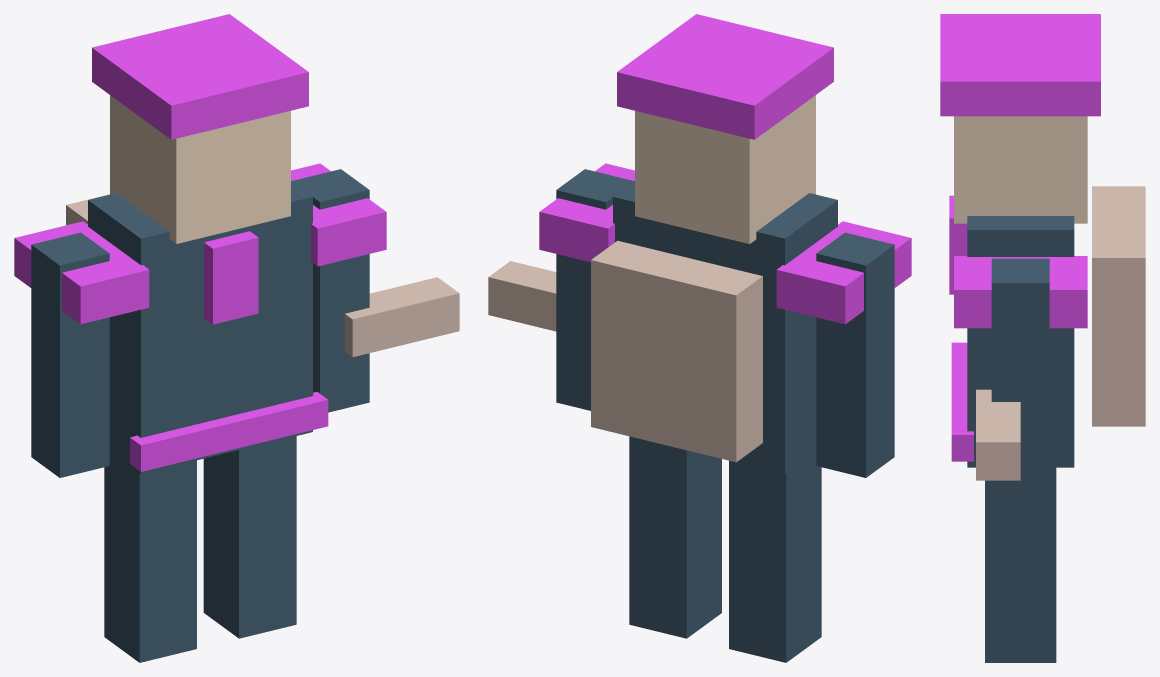
The model's file is 02_cassian_voxmere_ranger_near_security.glb.
3 renders of one model, left to right at view 1: azimuth 30°, elevation 25°; view 2: azimuth 150°, elevation 25°; view 3: azimuth 270°, elevation 25°, orthographic.
Visible parts, largest first — view 1: Cassian Voxmere, Ranger near Security; view 2: Cassian Voxmere, Ranger near Security; view 3: Cassian Voxmere, Ranger near Security.
Boxes of the visible parts, x1,y1,x2,y2 form: Cassian Voxmere, Ranger near Security: (14,14,459,662); Cassian Voxmere, Ranger near Security: (488,14,911,662); Cassian Voxmere, Ranger near Security: (940,14,1145,662).
Bounding box in the file's own units: 1.1 × 1.53 × 0.4933.
